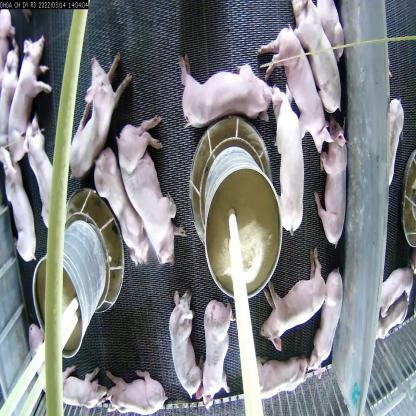Pig: (173, 43, 280, 145), (115, 105, 187, 252), (260, 22, 330, 155), (67, 53, 125, 175), (290, 4, 356, 110), (264, 83, 310, 223), (262, 252, 329, 347), (195, 281, 240, 400), (244, 339, 314, 415), (98, 145, 145, 258), (306, 122, 348, 245), (0, 150, 36, 288), (8, 34, 44, 152), (28, 124, 63, 241), (163, 290, 203, 392), (313, 275, 346, 385)
